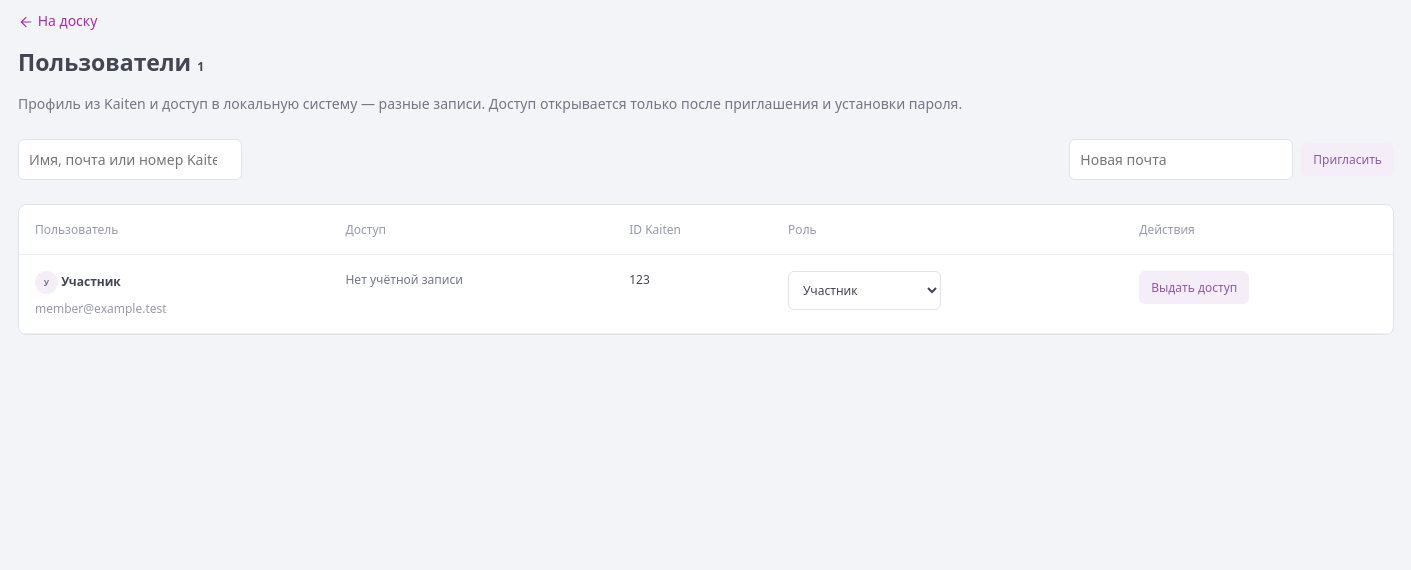
shows imported profiles separately from account access and issues a selected invitation
The image size is (1411, 570).
Check: the text "Нет учётной записи" is shown, box top-left (346, 272), bottom-right (463, 288)
Select "Наблюдатель" in the dropdown named "Роль: Участник" at (865, 291), box top-left (788, 272), bottom-right (941, 310)
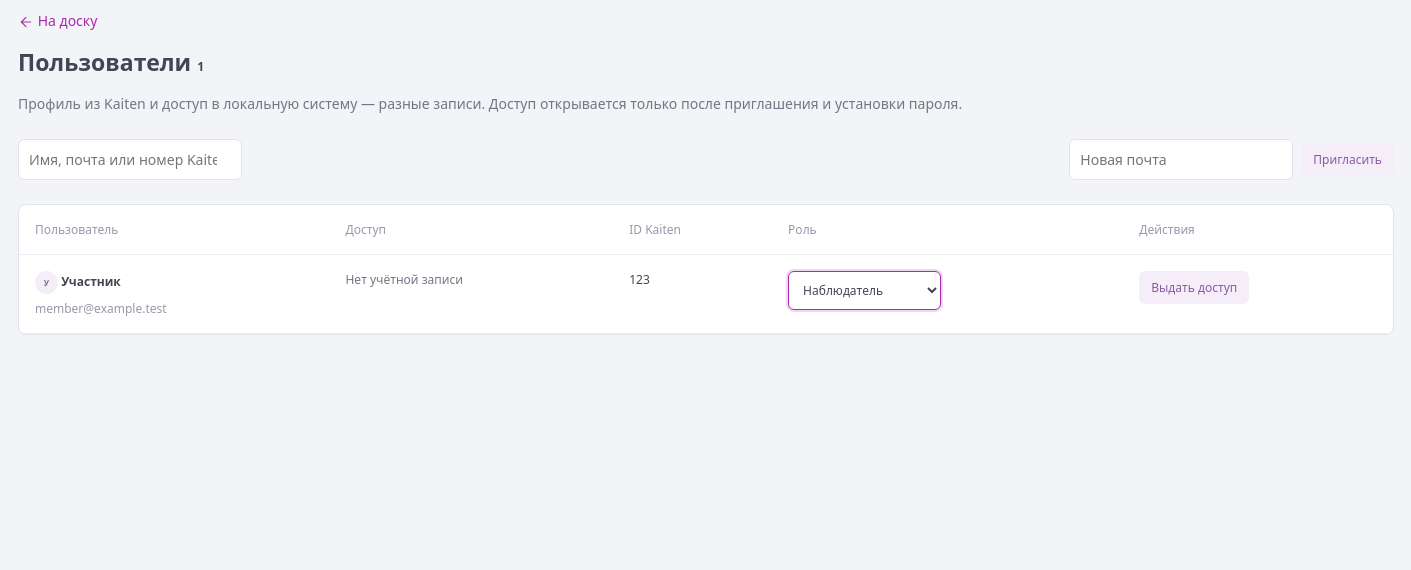
Click the button "Выдать доступ" at (1194, 288), box top-left (1139, 272), bottom-right (1249, 304)
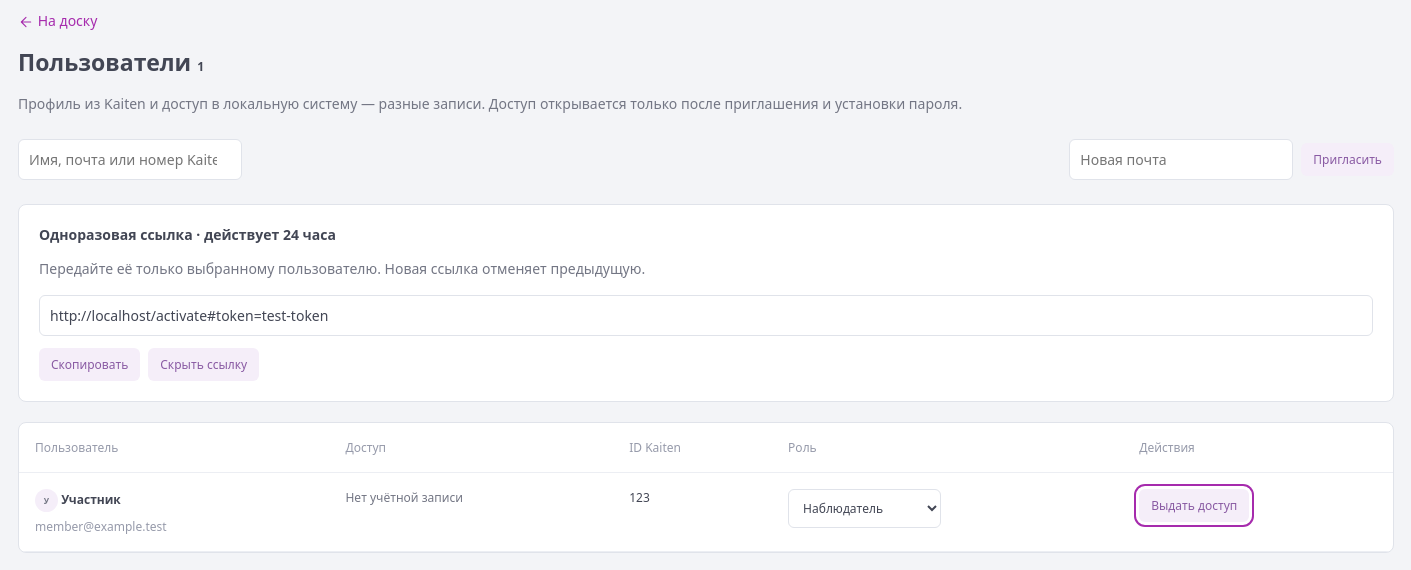
Type "неизвестный" into the search field named "Поиск пользователей" at (130, 160), box top-left (18, 140), bottom-right (242, 180)
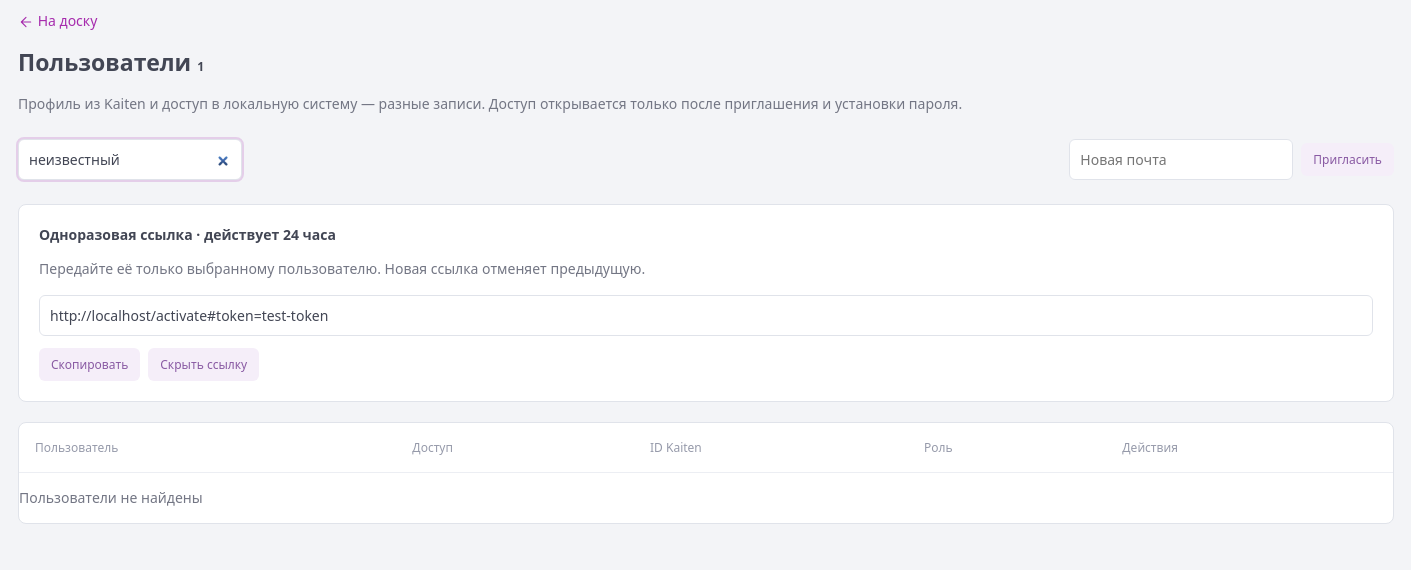
Check: the text "Пользователи не найдены" is shown, box top-left (19, 488), bottom-right (203, 507)
